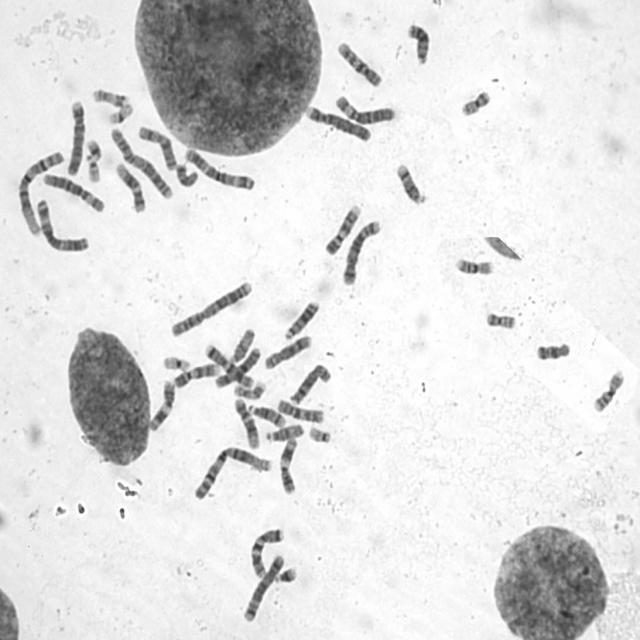A1: (190, 441, 275, 502), (15, 145, 66, 238)
A2: (168, 276, 254, 338), (108, 123, 175, 201)
A3: (180, 144, 257, 192), (34, 194, 92, 253)
B4: (303, 102, 373, 144), (63, 95, 87, 176)
B5: (241, 550, 286, 623), (340, 215, 382, 286)
C10: (333, 36, 385, 88), (275, 395, 326, 424)
C11: (144, 376, 177, 432), (276, 434, 300, 496)
C12: (112, 158, 148, 215), (231, 394, 261, 450)
C6: (40, 168, 107, 214), (332, 90, 398, 126)
C7: (203, 339, 257, 389), (248, 523, 286, 579)
C8: (287, 360, 333, 406), (261, 330, 313, 370)
C9: (322, 200, 363, 256), (171, 360, 221, 389)
D13: (282, 296, 321, 341), (404, 18, 432, 66)
D14: (393, 159, 429, 207), (246, 400, 286, 428)
D15: (228, 324, 257, 365), (262, 420, 306, 443)
E16: (590, 365, 627, 414), (453, 254, 496, 276)
E17: (90, 84, 130, 108), (230, 377, 268, 401)
E18: (534, 337, 572, 362), (173, 158, 200, 188)
F19: (105, 99, 135, 125), (160, 351, 192, 372)
F20: (458, 85, 493, 118), (483, 308, 518, 330)
G21: (272, 562, 299, 586), (83, 134, 104, 161)
G22: (306, 421, 334, 445), (83, 153, 102, 182)
X: (208, 342, 261, 389), (135, 120, 180, 172)
